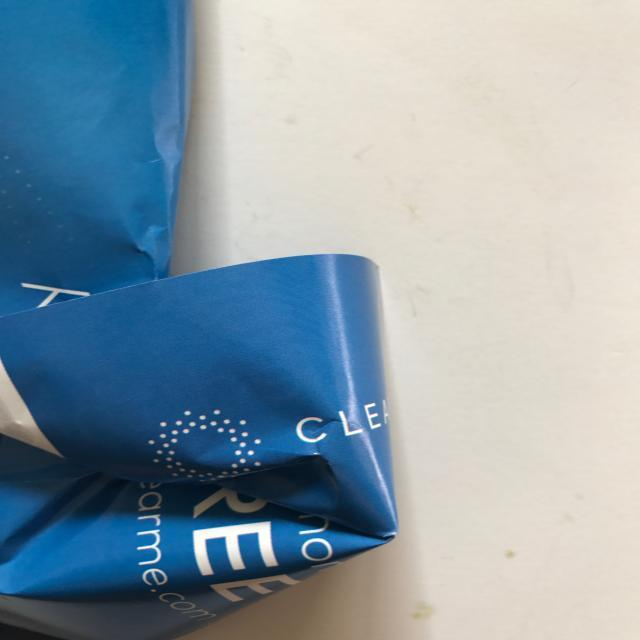paper: (0, 0, 397, 640)
